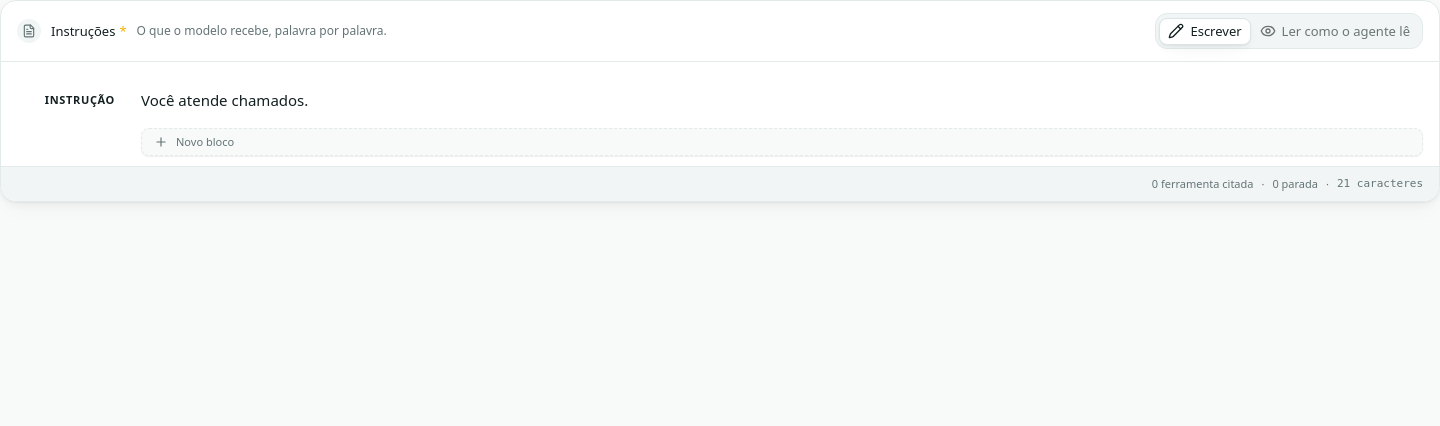
Test: writing in a block that was just added › shows the block, even though it contributes nothing yet
This screenshot has width=1440, height=426.
Click the button "Novo bloco" at (205, 142), box left=141, top=128, right=1423, bottom=156
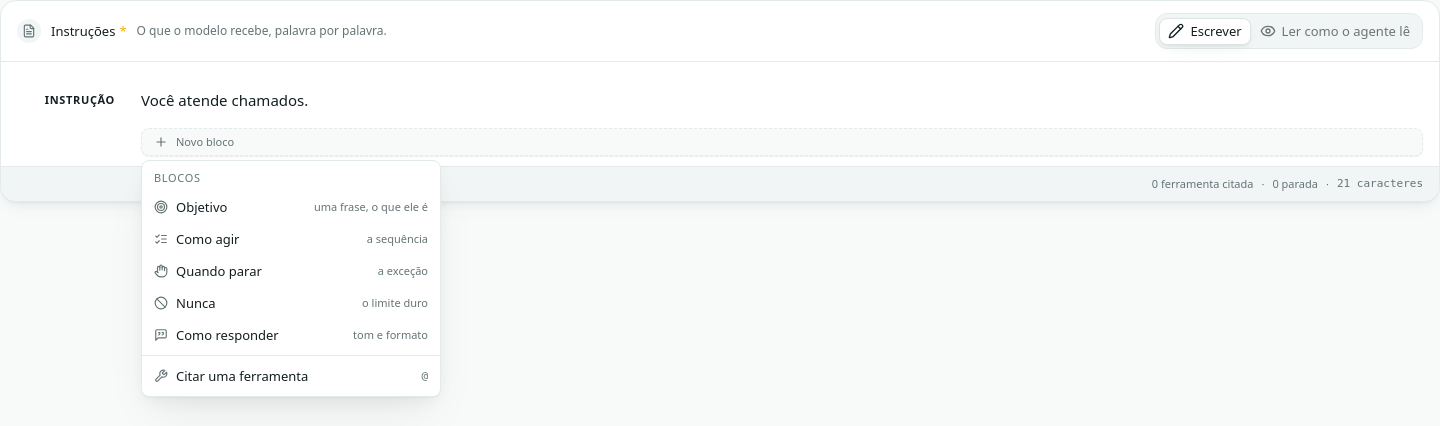
Click the menu item "Nunca o limite duro" at (196, 302), box left=154, top=294, right=428, bottom=312
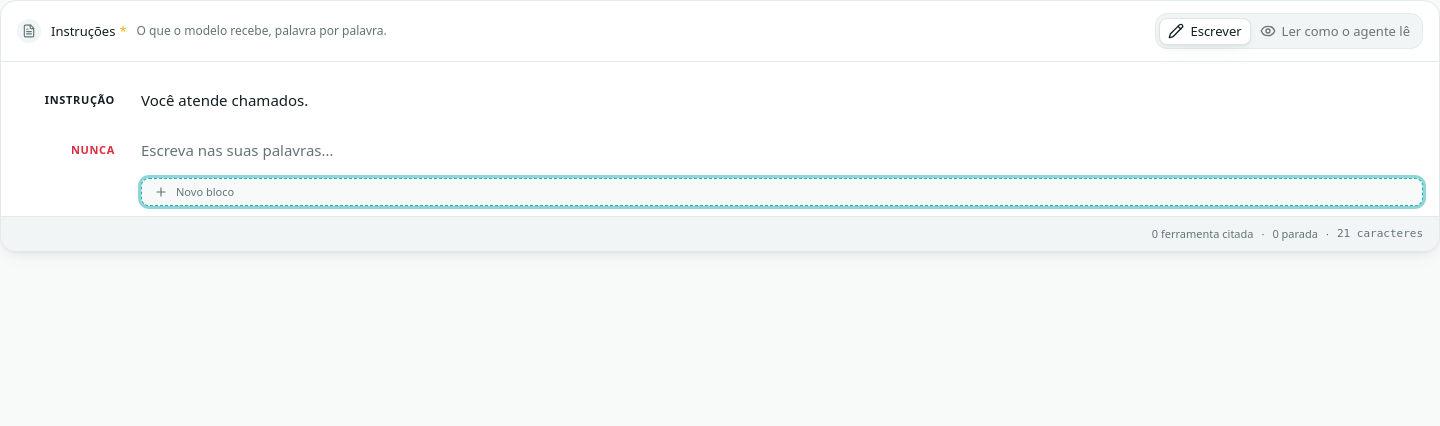
Check: the field named "Nunca" is shown, box left=141, top=140, right=333, bottom=160
